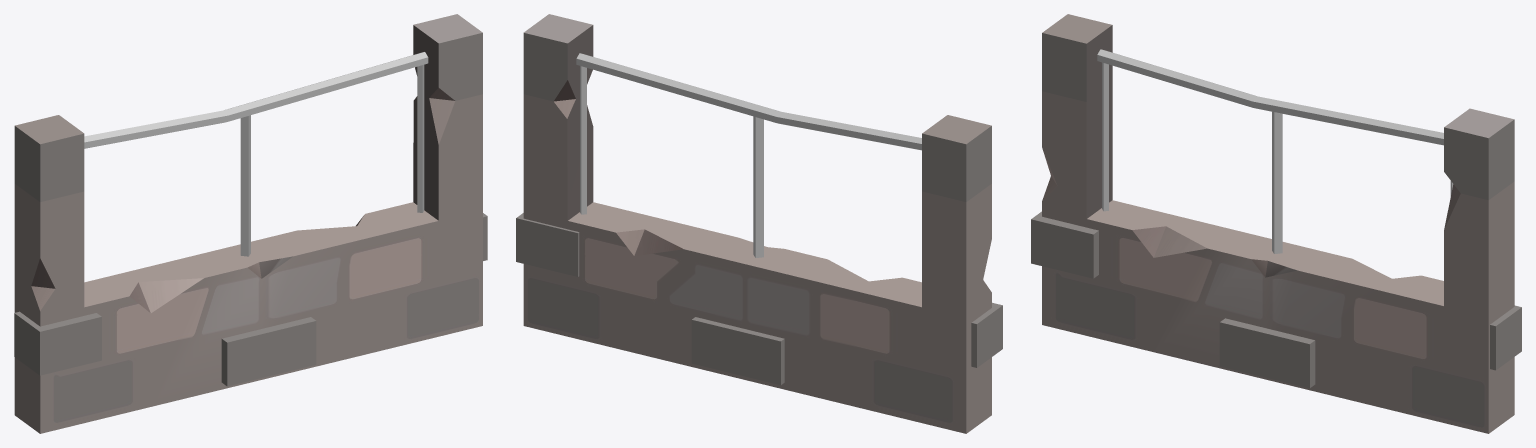
File: SM_SmallWall_02.fbx
The picture shows the model from 3 angles, left to right: view 1: azimuth 30°, elevation 25°; view 2: azimuth 150°, elevation 25°; view 3: azimuth 330°, elevation 25°; orthographic projection.
Visible parts, largest first — view 1: SM_SmallWall_02; view 2: SM_SmallWall_02; view 3: SM_SmallWall_02.
Part boxes in pixels (bbox=[...]): SM_SmallWall_02: bbox=[14, 14, 487, 433]; SM_SmallWall_02: bbox=[516, 14, 1002, 433]; SM_SmallWall_02: bbox=[1031, 14, 1521, 433].
Size of the model in its own units: 2.05 by 1.27 by 0.2719.
